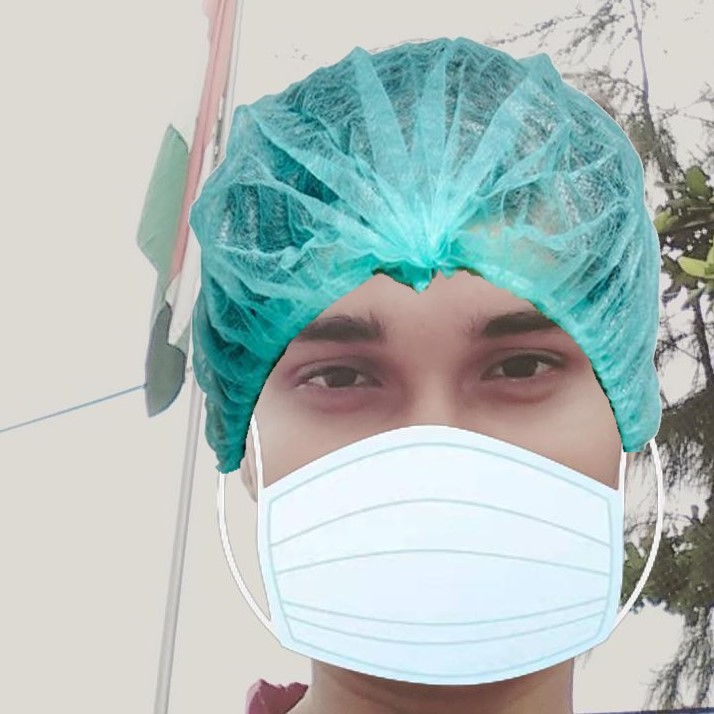with_mask_and_cap: (192, 38, 661, 678)
